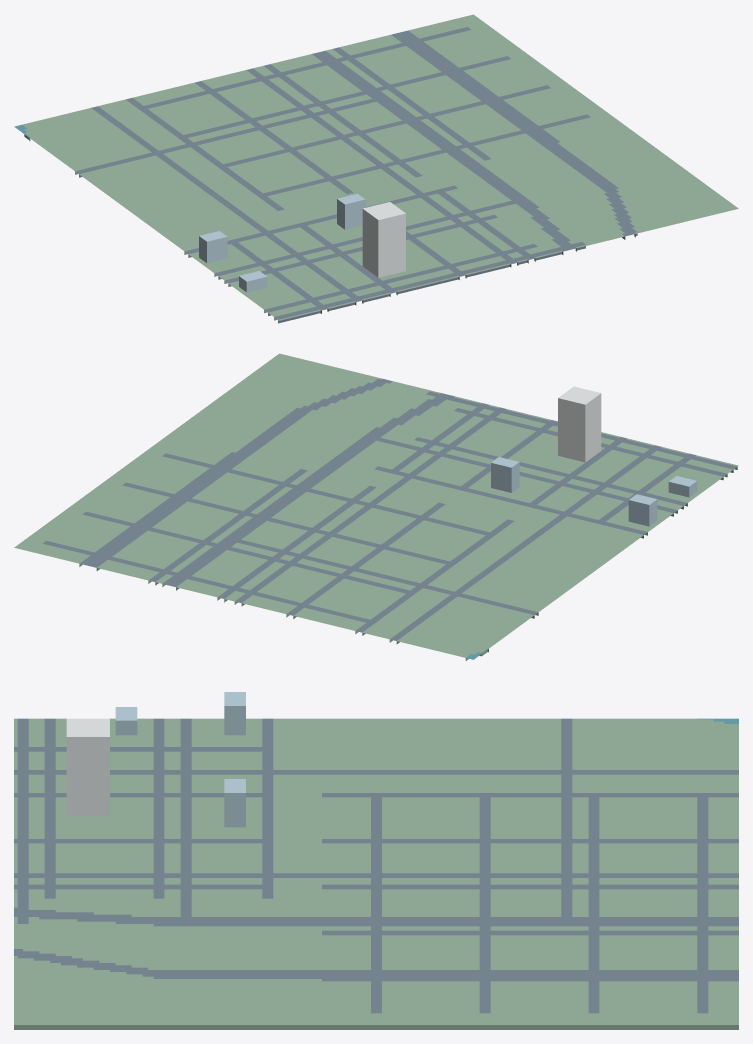
Rendered from sector-e.glb.
3 views of the same model, one above another, from view 1: azimuth 30°, elevation 25°; view 2: azimuth 150°, elevation 25°; view 3: azimuth 270°, elevation 25° (orthographic). The views are drawn at different scales.
Visible parts, largest first — view 1: material_1, material_2, material_5, material_4; view 2: material_1, material_2, material_5, material_4; view 3: material_1, material_2, material_5, material_4.
Part boxes in pixels (x1,y1,x2,y2): material_1: (22, 14, 738, 320); material_2: (75, 27, 637, 323); material_5: (362, 202, 405, 277); material_4: (199, 193, 365, 292); material_1: (14, 353, 738, 660); material_2: (43, 379, 737, 644); material_5: (558, 386, 601, 462); material_4: (491, 457, 697, 526); material_1: (14, 718, 738, 1029); material_2: (14, 718, 738, 1013); material_5: (66, 718, 109, 815); material_4: (115, 692, 245, 827).
Size of the model in its own units: 1333 by 170 by 1333.
